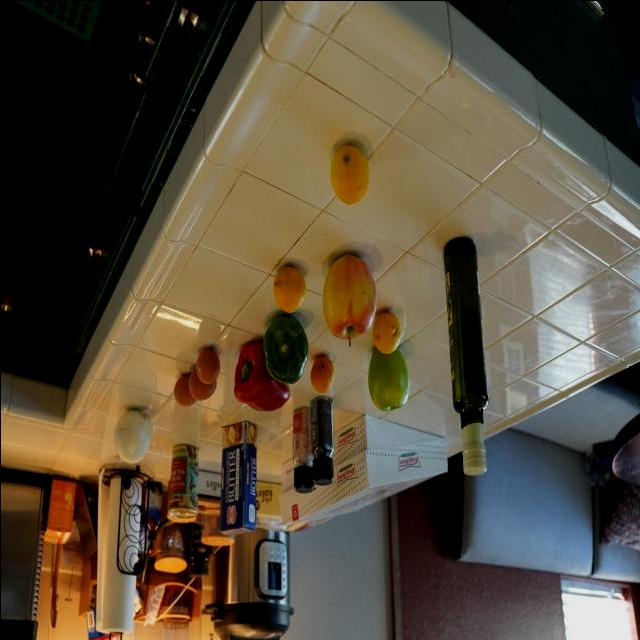bell_pepper: (232, 344, 292, 416), (258, 308, 310, 386), (308, 403, 338, 487)
egg: (183, 362, 217, 400), (192, 342, 222, 384), (172, 372, 198, 409)
onion: (109, 407, 155, 462)
